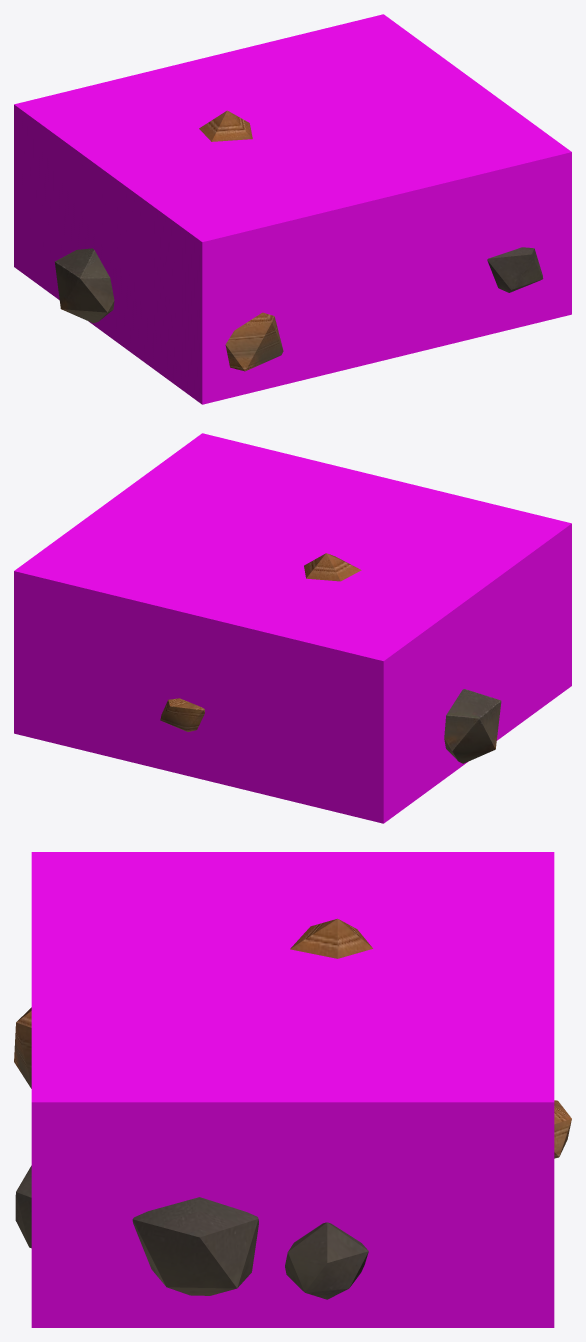
File: prop_slag_heap.glb
The picture shows the model from 3 angles, top to bottom: view 1: azimuth 30°, elevation 25°; view 2: azimuth 150°, elevation 25°; view 3: azimuth 270°, elevation 25°; orthographic projection. The views are drawn at different scales.
Parts seen in each view (by area): view 1: prop_slag_heap-col, Slag; view 2: prop_slag_heap-col, Slag; view 3: prop_slag_heap-col, Slag.
Boxes of the visible parts, <box> form: prop_slag_heap-col: <box>14,14,571,404</box>; Slag: <box>55,110,543,371</box>; prop_slag_heap-col: <box>14,433,571,823</box>; Slag: <box>160,553,501,763</box>; prop_slag_heap-col: <box>31,852,554,1327</box>; Slag: <box>14,918,571,1299</box>.
Size of the model in its own units: 1.49 by 0.592 by 1.19.
Materials: 2 (1 with a texture image).
